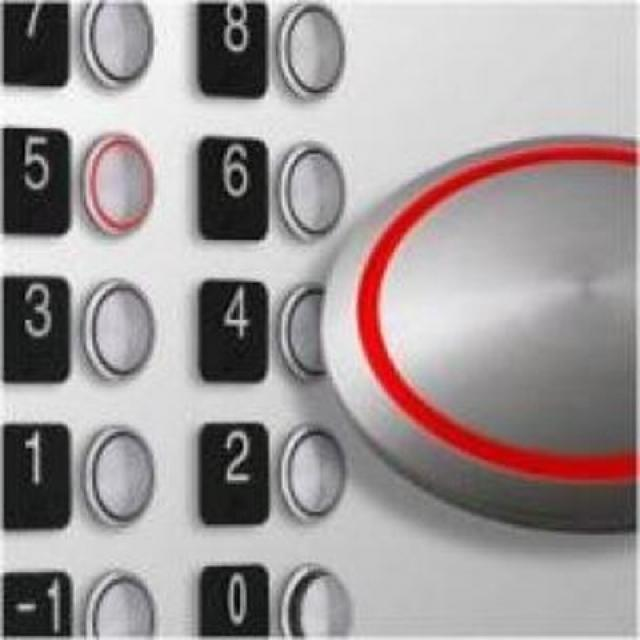-1: (0, 565, 75, 639)
0: (193, 560, 270, 639)
1: (0, 417, 73, 533)
2: (190, 416, 270, 529)
3: (0, 271, 71, 385)
4: (190, 273, 270, 387)
5: (0, 123, 71, 237)
6: (191, 128, 269, 245)
7: (0, 0, 70, 89)
8: (191, 0, 269, 103)
empty: (76, 124, 156, 239), (77, 418, 156, 530), (75, 275, 156, 384), (271, 416, 349, 528), (270, 136, 346, 245), (271, 0, 348, 104), (75, 0, 156, 91), (76, 564, 163, 639), (275, 560, 352, 639)
